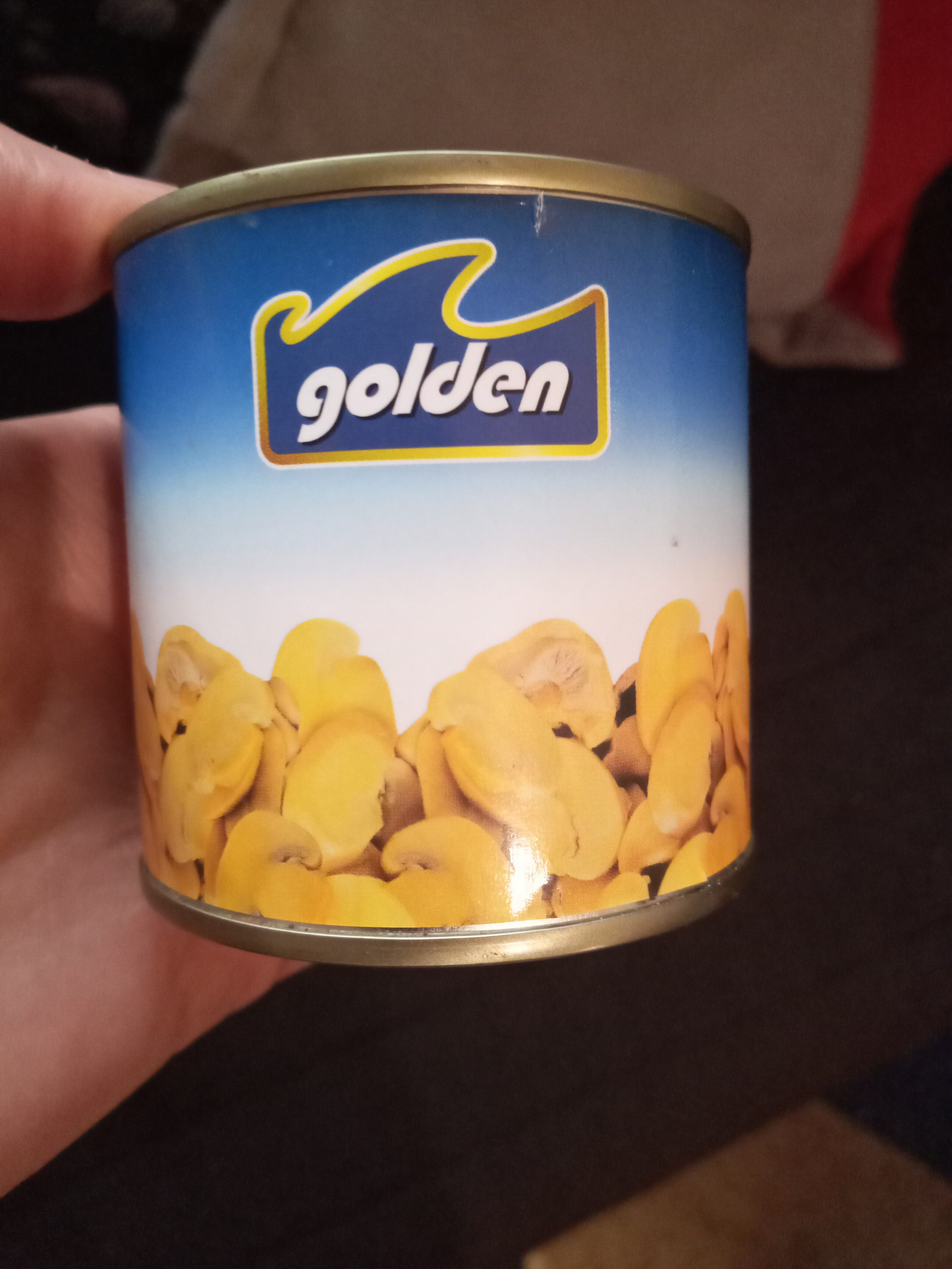golden: (48, 63, 904, 1206)
